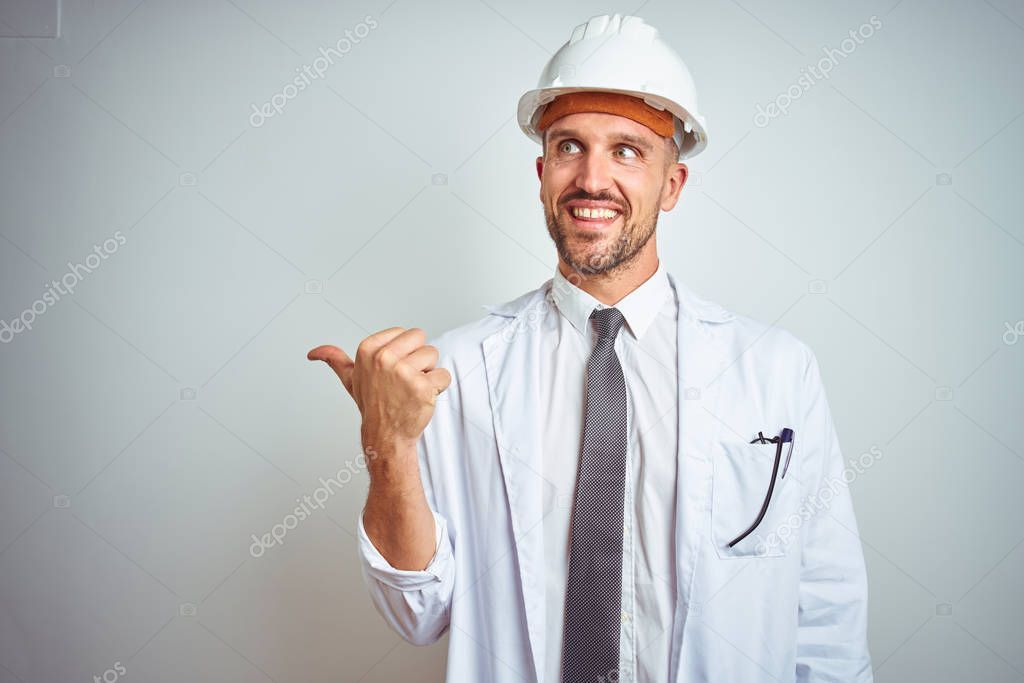Person_wearing_helmet: (501, 1, 715, 181)
